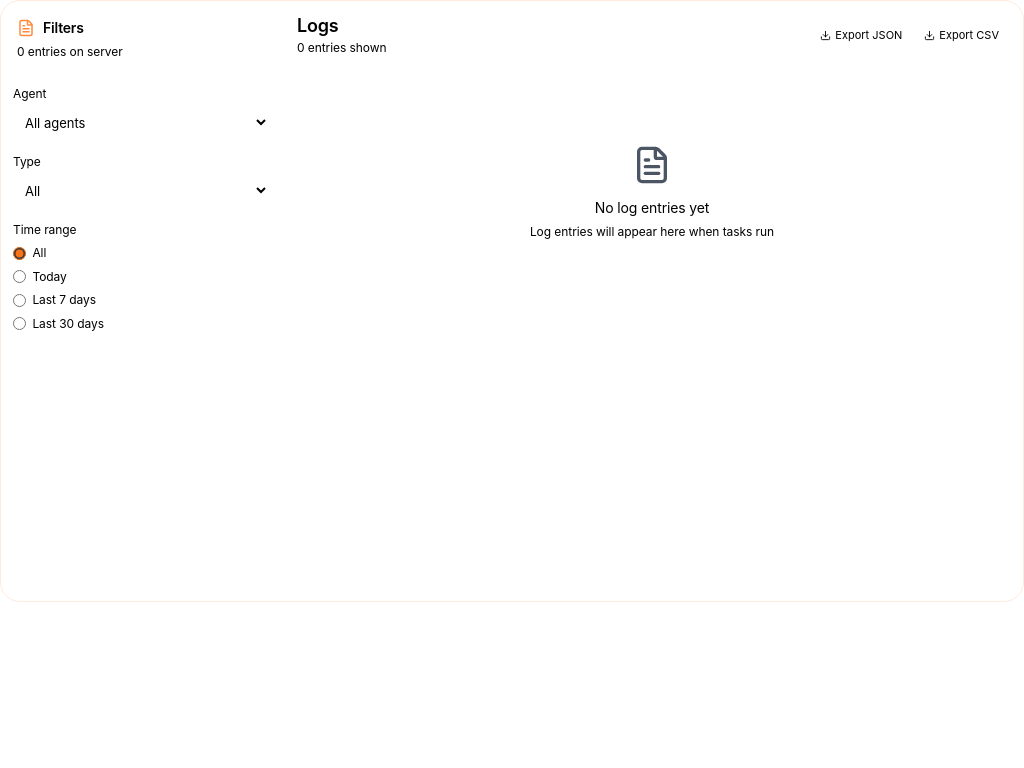
LogViewer › empty state › shows filter-specific empty message when filters active
// Select a type filter
Select "status" in the dropdown labelled "Type" at (141,191), box left=13, top=176, right=269, bottom=205
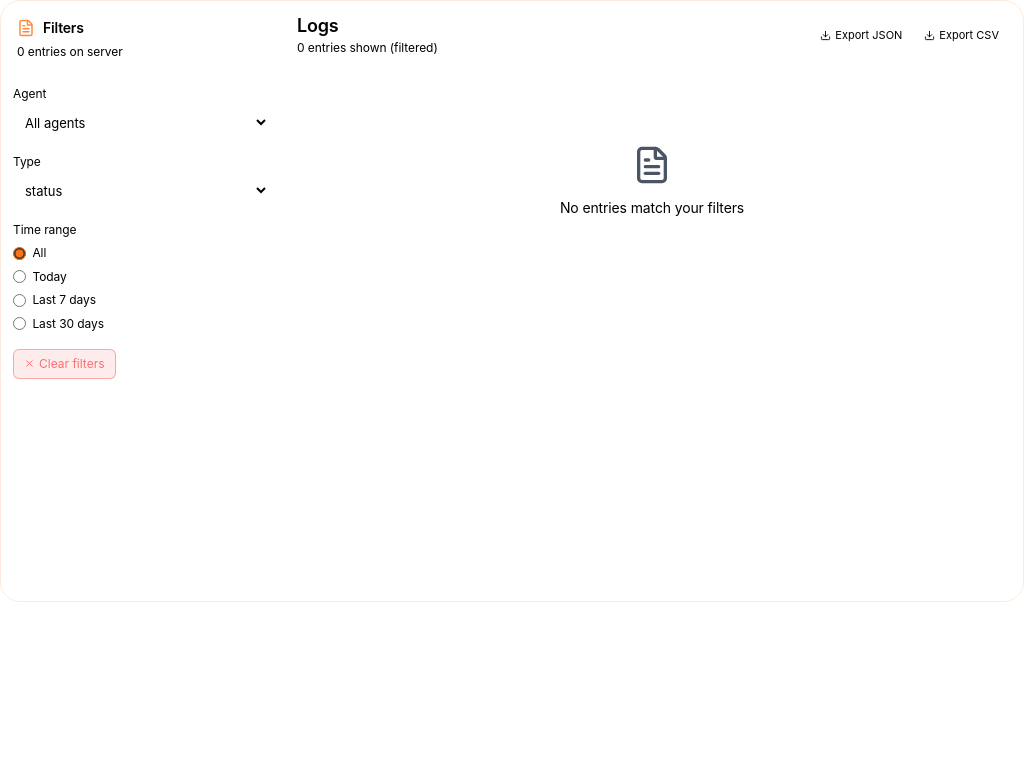
Result: the text "No entries match your filters" is shown at left=560, top=197, right=744, bottom=220
